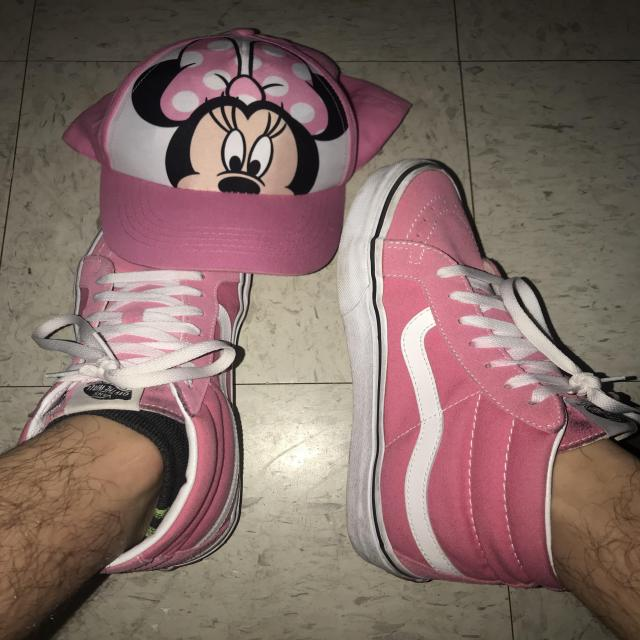shoe: (335, 156, 640, 590), (26, 201, 255, 575)
